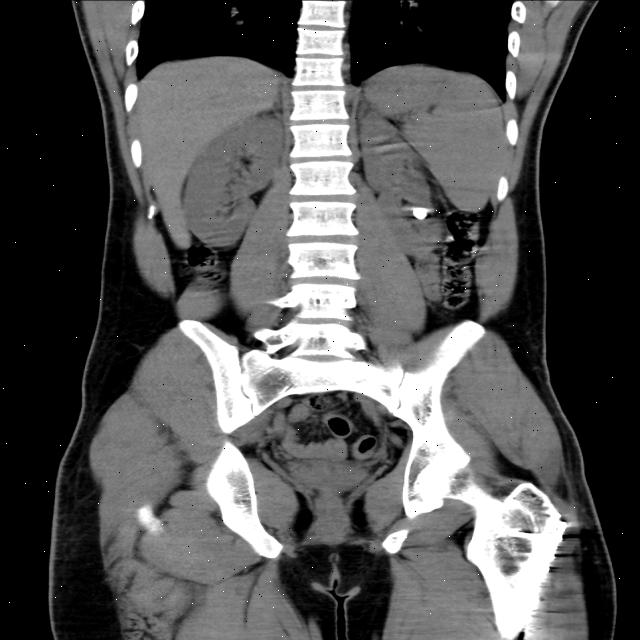kidneystone: (411, 208, 429, 219)
